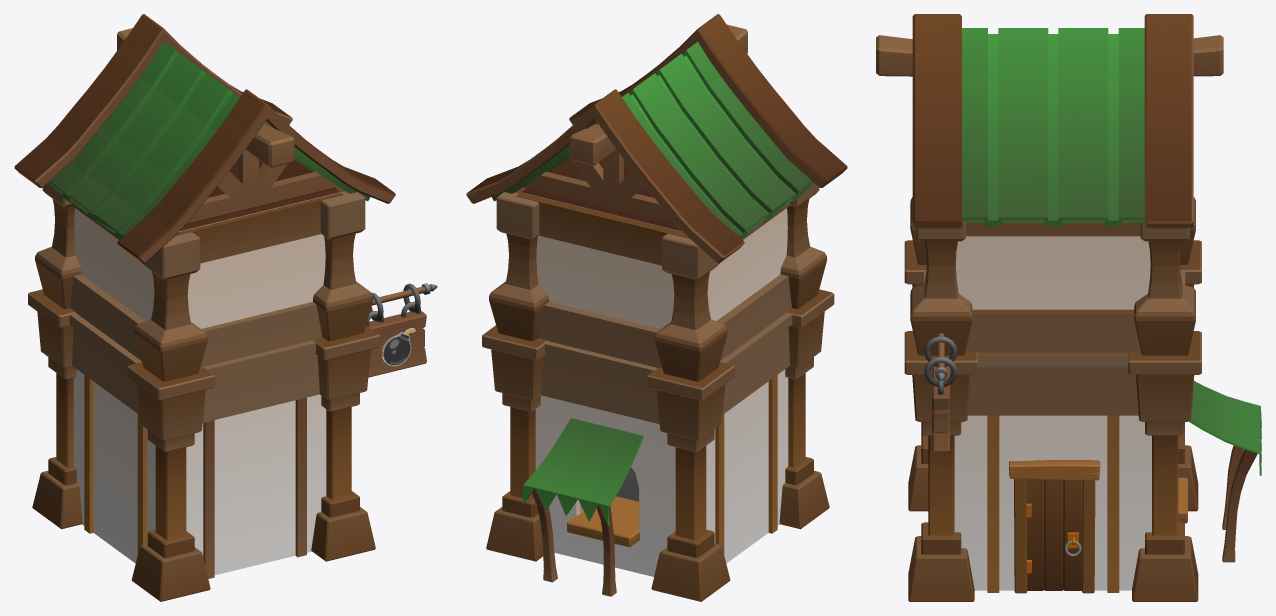
File: obj_Armery.fbx
The picture shows the model from 3 angles, left to right: view 1: azimuth 30°, elevation 25°; view 2: azimuth 150°, elevation 25°; view 3: azimuth 270°, elevation 25°; orthographic projection. The views are drawn at different scales.
Visible parts, largest first — view 1: obj_Armery; view 2: obj_Armery; view 3: obj_Armery.
Part boxes in pixels (<box>): obj_Armery: <box>14,14,437,601</box>; obj_Armery: <box>466,14,847,601</box>; obj_Armery: <box>876,14,1261,601</box>.
Size of the model in its own units: 360 by 519 by 343.
